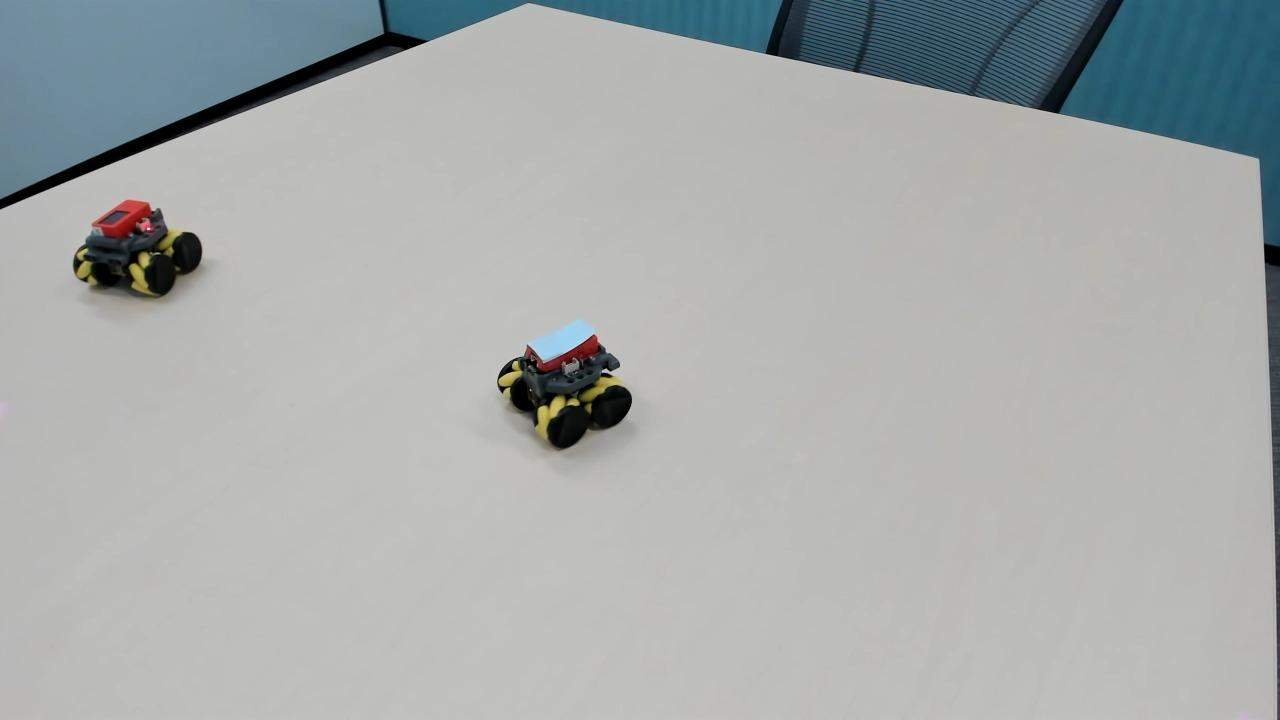B-Robot: (489, 314, 653, 469)
R-Robot: (61, 188, 208, 301)
